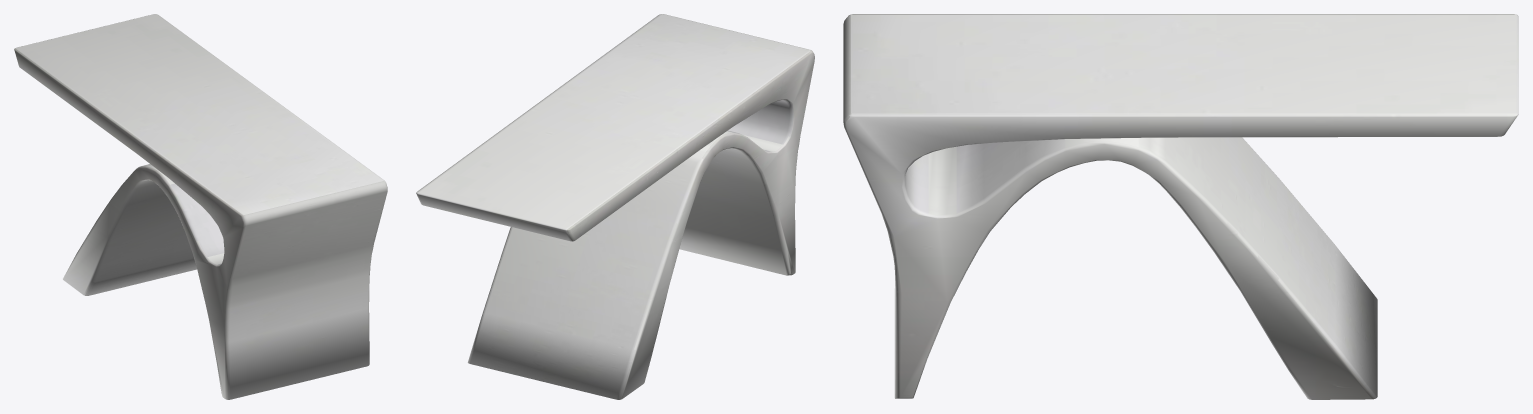
File: office-desk-lite.glb
The picture shows the model from 3 angles, left to right: view 1: azimuth 30°, elevation 25°; view 2: azimuth 150°, elevation 25°; view 3: azimuth 270°, elevation 25°; orthographic projection. The views are drawn at different scales.
Visible parts, largest first — view 1: Material_001-material; view 2: Material_001-material; view 3: Material_001-material.
Boxes of the visible parts, bbox=[...] form: Material_001-material: bbox=[14, 14, 387, 399]; Material_001-material: bbox=[416, 14, 814, 399]; Material_001-material: bbox=[843, 14, 1518, 399].
Bounding box in the file's own units: 0.6574 × 0.8534 × 1.83.
1 material, 1 textured.
